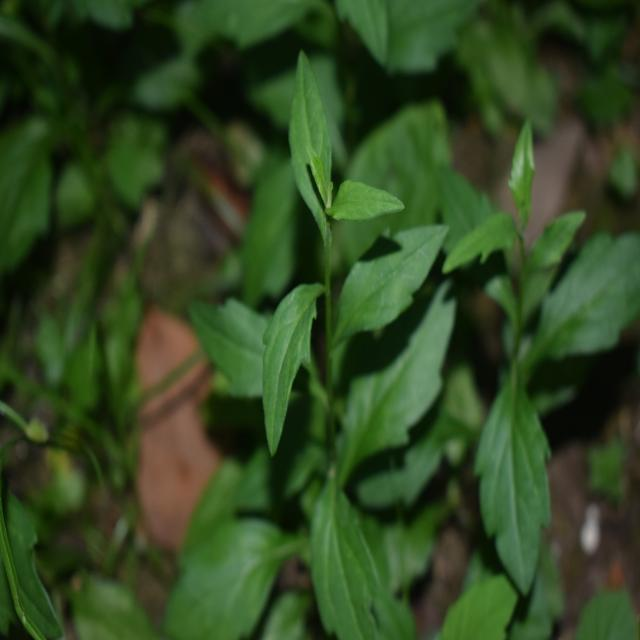Indian aster: (207, 105, 448, 613), (460, 117, 628, 572)
